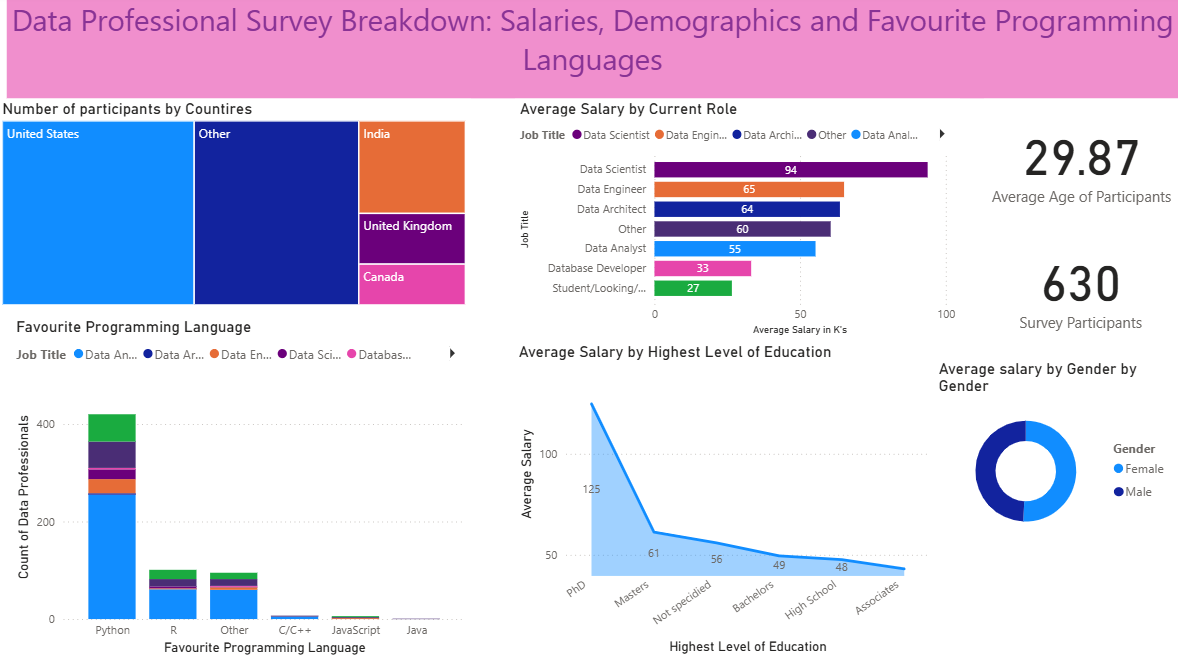

The page's visual inventory and layout, read from the dashboard file:
{"tool":"powerbi","page":{"name":"Salaries and Roles","canvas":[1280,720],"ordinal":0},"visuals":[{"type":"textbox","box":[10.1,0,1269.6,112.1],"z":0},{"type":"card","fields":{"Values":["CountNonNull(Data Professional Survey.Unique ID_1)"]},"box":[1081.7,256.7,185.1,120.7],"z":1000},{"type":"card","fields":{"Values":["Avg(Data Professional Survey.Q10 - Current Age)"]},"box":[1068.6,112.1,211.1,135.2],"z":2000},{"type":"barChart","title":"Average Salary by Current Role","fields":{"Category":["Data Professional Survey.Q1 - Which Title Best Fits your Current Role?.1"],"Y":["Avg(Data Professional Survey.Average Salary)"],"Series":["Data Professional Survey.Q1 - Which Title Best Fits your Current Role?.1"]},"box":[560.3,112.1,481.5,261.7],"z":3000},{"type":"columnChart","title":"Favourite Programming Language","fields":{"Category":["Data Professional Survey.Q5 - Favorite Programming Language.1"],"Y":["CountNonNull(Data Professional Survey.Unique ID_1)"],"Series":["Data Professional Survey.Q1 - Which Title Best Fits your Current Role?.1"]},"box":[15.5,349.4,496.7,370.8],"z":4000},{"type":"treemap","fields":{"Group":["Data Professional Survey.Q11 - Which Country do you live in?.1"],"Values":["CountNonNull(Data Professional Survey.Q1 - Which Title Best Fits your Current Role?.1)"]},"box":[0,112.1,511.9,228.5],"z":5000},{"type":"donutChart","fields":{"Category":["Data Professional Survey.Q9 - Male/Female?"],"Y":["Avg(Data Professional Survey.Average Salary)"]},"box":[1014.8,393.8,265,205.8],"z":6000},{"type":"stackedAreaChart","fields":{"Category":["Data Professional Survey.Q12 - Highest Level of Education"],"Y":["Avg(Data Professional Survey.Average Salary)"]},"box":[560,377,455,343],"z":7000}]}

Visuals, with their boxes in screenshot pixels (x1, y1, x2, y2), scaled from the page's 1280x720 canvas onto the 1178x656 screenshot:
textbox: <box>9,0,1177,102</box>
card - CountNonNull(Data Professional Survey.Unique ID_1): <box>996,234,1166,344</box>
card - Avg(Data Professional Survey.Q10 - Current Age): <box>983,102,1177,225</box>
"Average Salary by Current Role" barChart: <box>516,102,959,341</box>
"Favourite Programming Language" columnChart: <box>14,318,471,655</box>
treemap - Data Professional Survey.Q11 - Which Country do you live in?.1 x CountNonNull(Data Professional Survey.Q1 - Which Title Best Fits your Current Role?.1): <box>0,102,471,310</box>
donutChart - Data Professional Survey.Q9 - Male/Female? x Avg(Data Professional Survey.Average Salary): <box>934,359,1177,546</box>
stackedAreaChart - Data Professional Survey.Q12 - Highest Level of Education x Avg(Data Professional Survey.Average Salary): <box>515,343,934,655</box>
